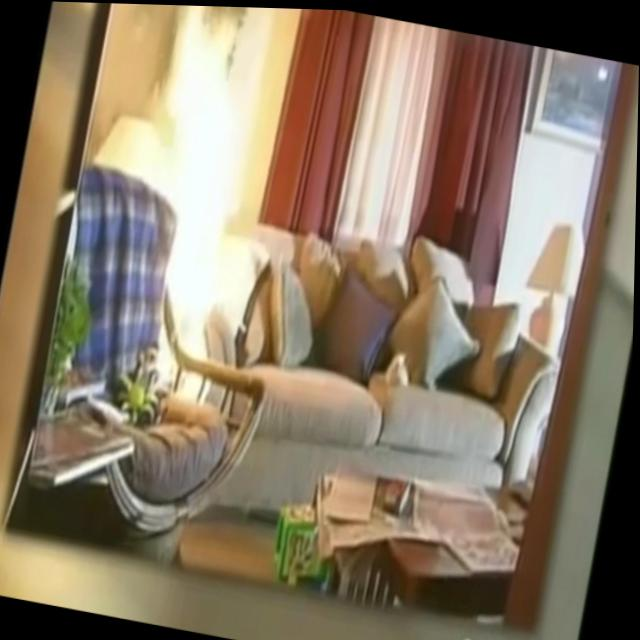fire: (84, 2, 303, 410)
